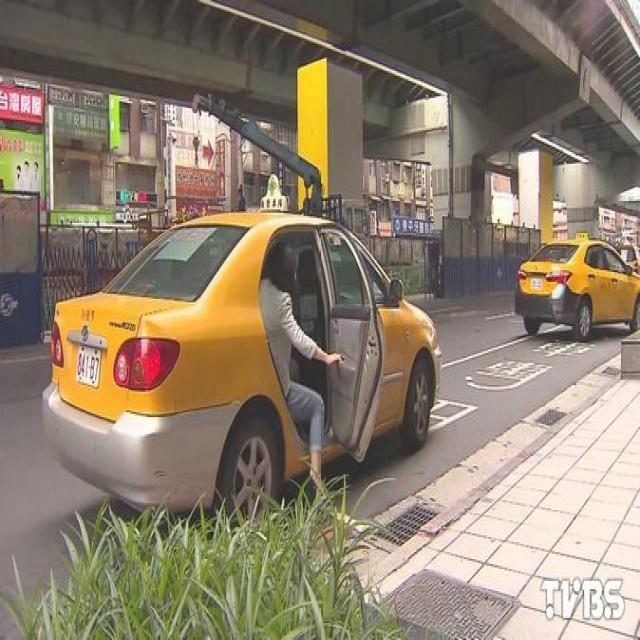taxi: (36, 128, 461, 535), (500, 216, 632, 337)
